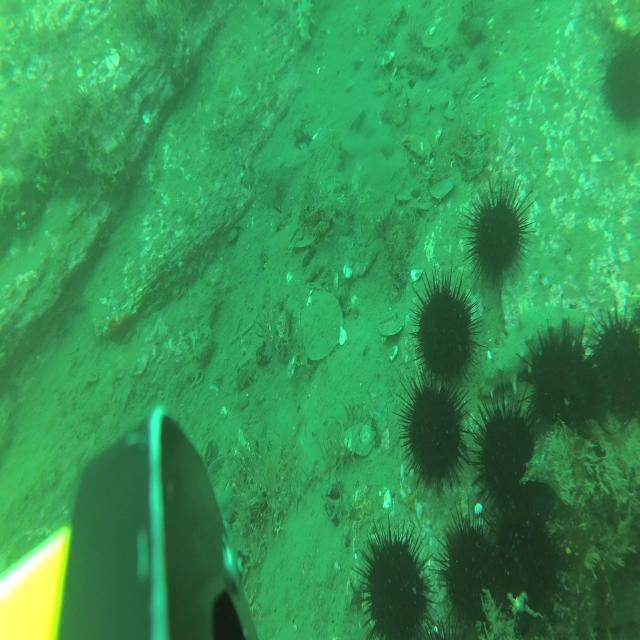echinus: (397, 365, 470, 500), (488, 499, 562, 625), (357, 519, 432, 640), (470, 383, 538, 512), (461, 172, 535, 288), (435, 501, 499, 631), (412, 262, 481, 379), (528, 321, 595, 440), (589, 300, 640, 430), (601, 44, 640, 123), (425, 616, 471, 640)
holothurian: (480, 302, 586, 397), (295, 0, 314, 45)
scallop: (301, 294, 345, 364), (344, 420, 376, 456), (380, 313, 405, 338)
